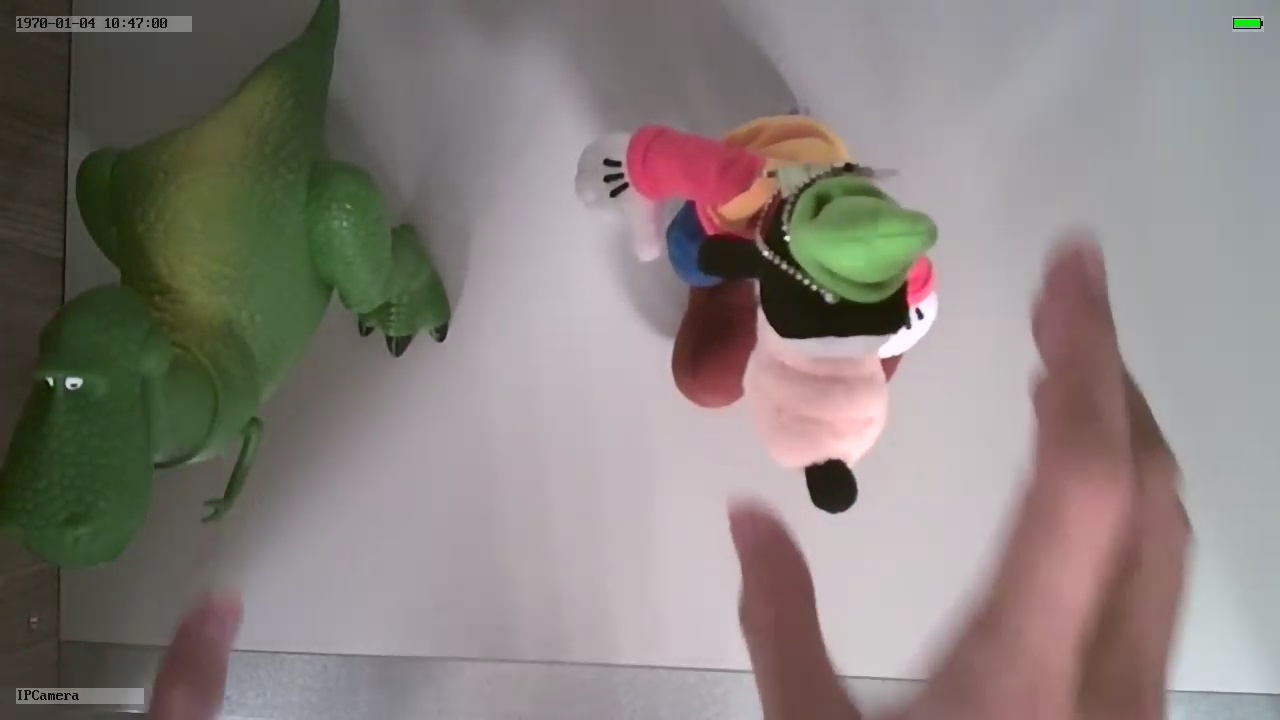goofy: (568, 112, 948, 511)
rex: (2, 84, 449, 571)
